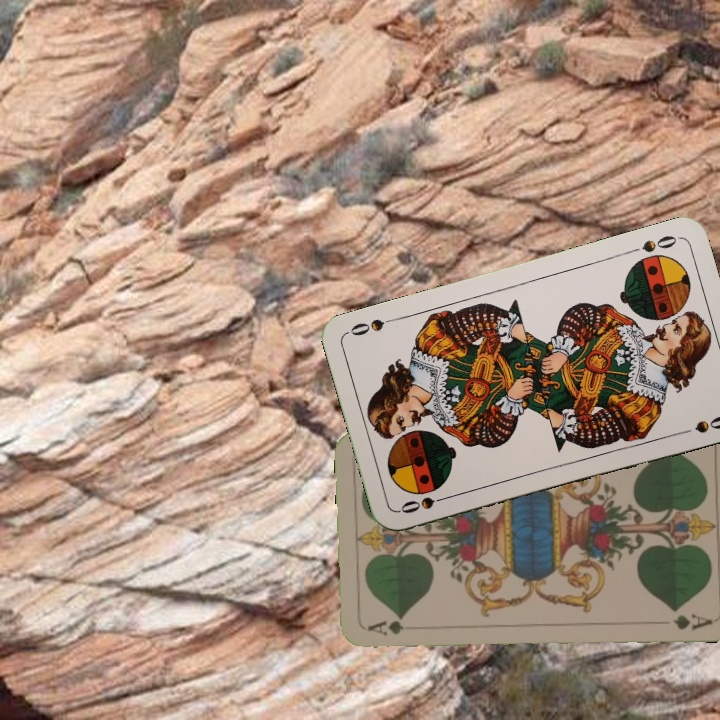GA: (364, 617, 417, 639)
SO: (396, 491, 454, 516), (623, 231, 681, 256)
